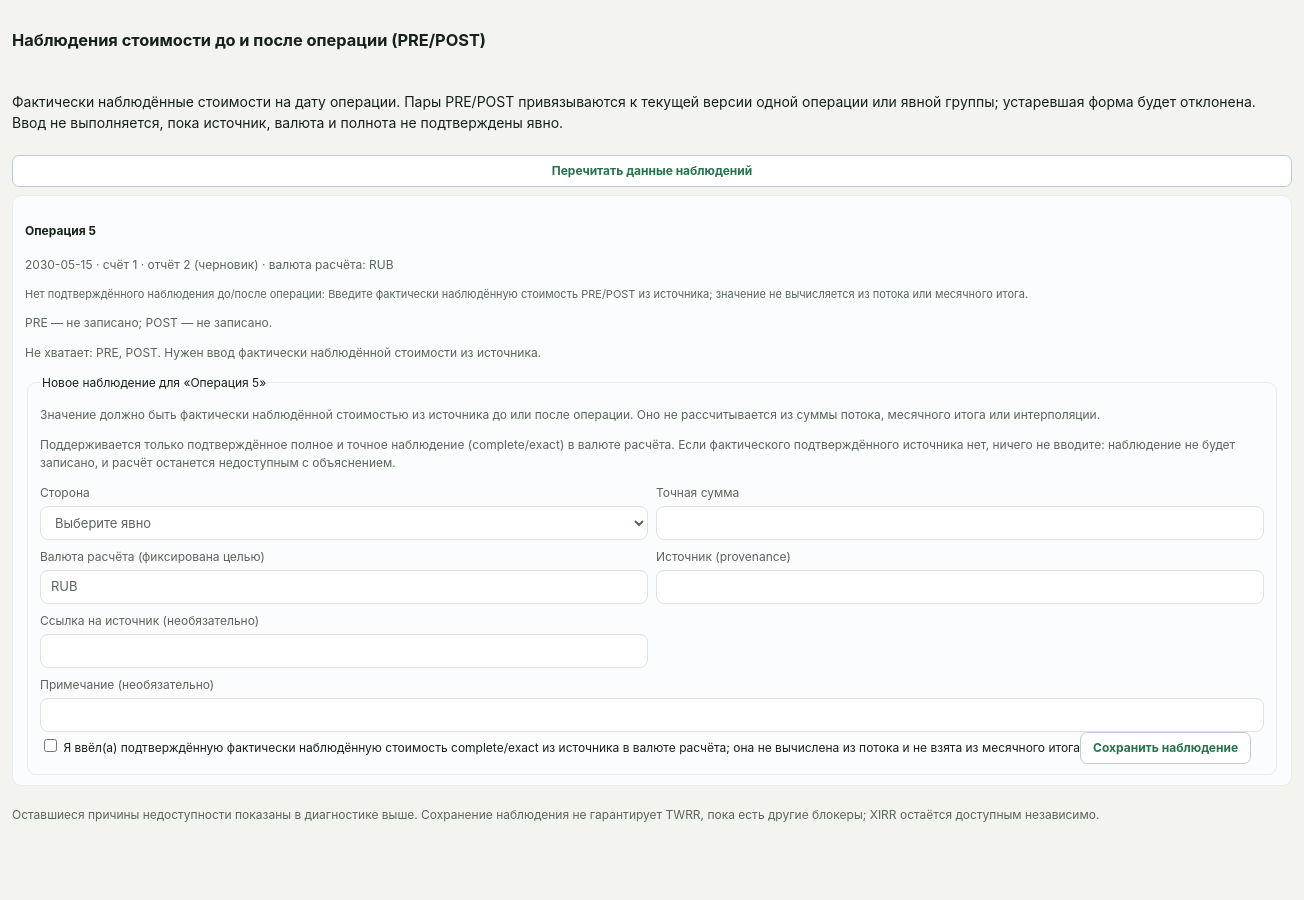
it: observed PRE/POST valuation capture › does not retry an ambiguous write and unlocks only after an explicit reread
The image size is (1304, 900).
Select "PRE" in the dropdown named "Сторона наблюдения". click: (344, 523)
box: [40,506,648,540]
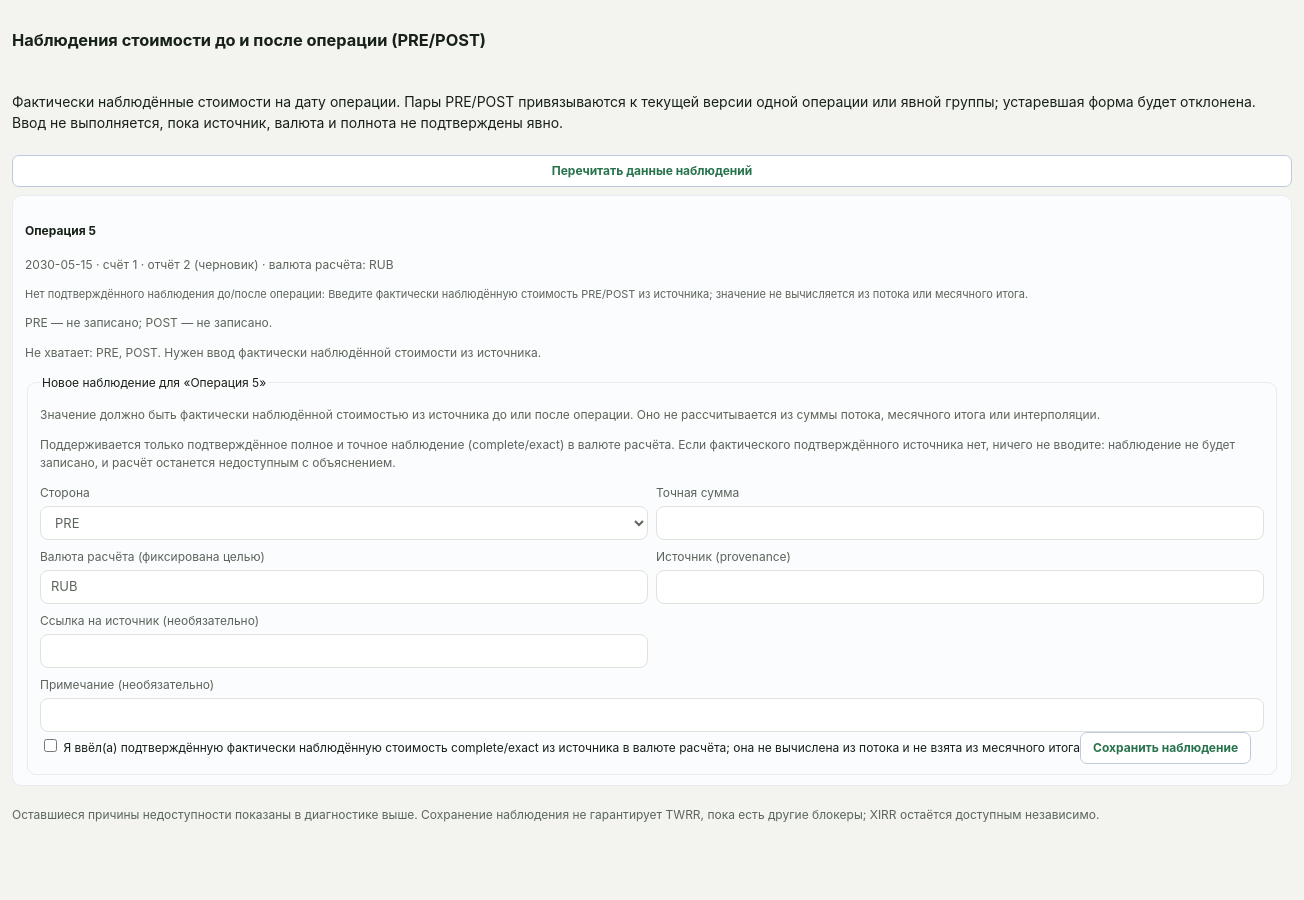
Type "1100.00" into the field named "Сумма наблюдения". click: (960, 523)
box: [656,506,1264,540]
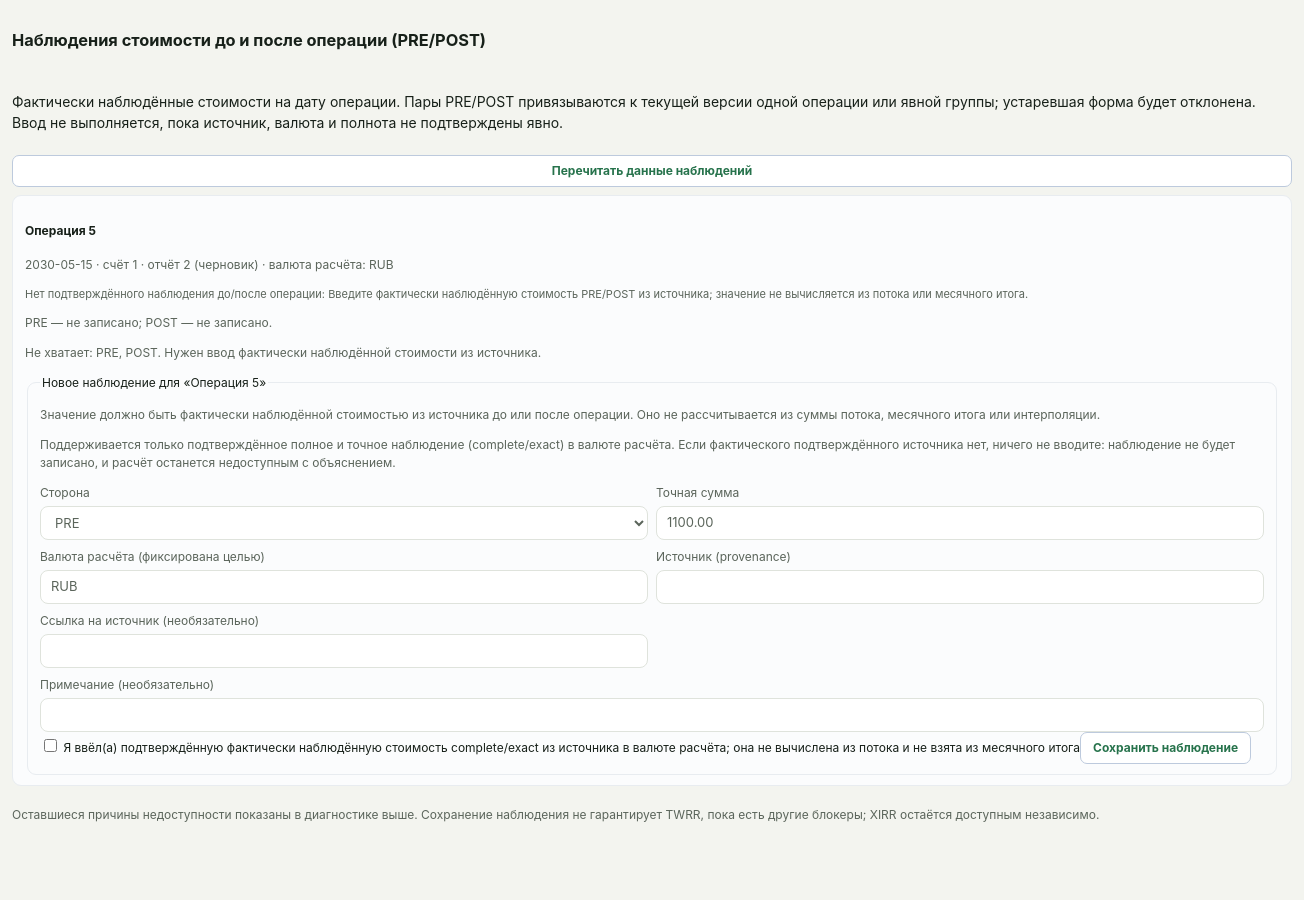
Type "owner_statement" into the field named "Источник наблюдения". click: (960, 587)
box: [656,570,1264,604]
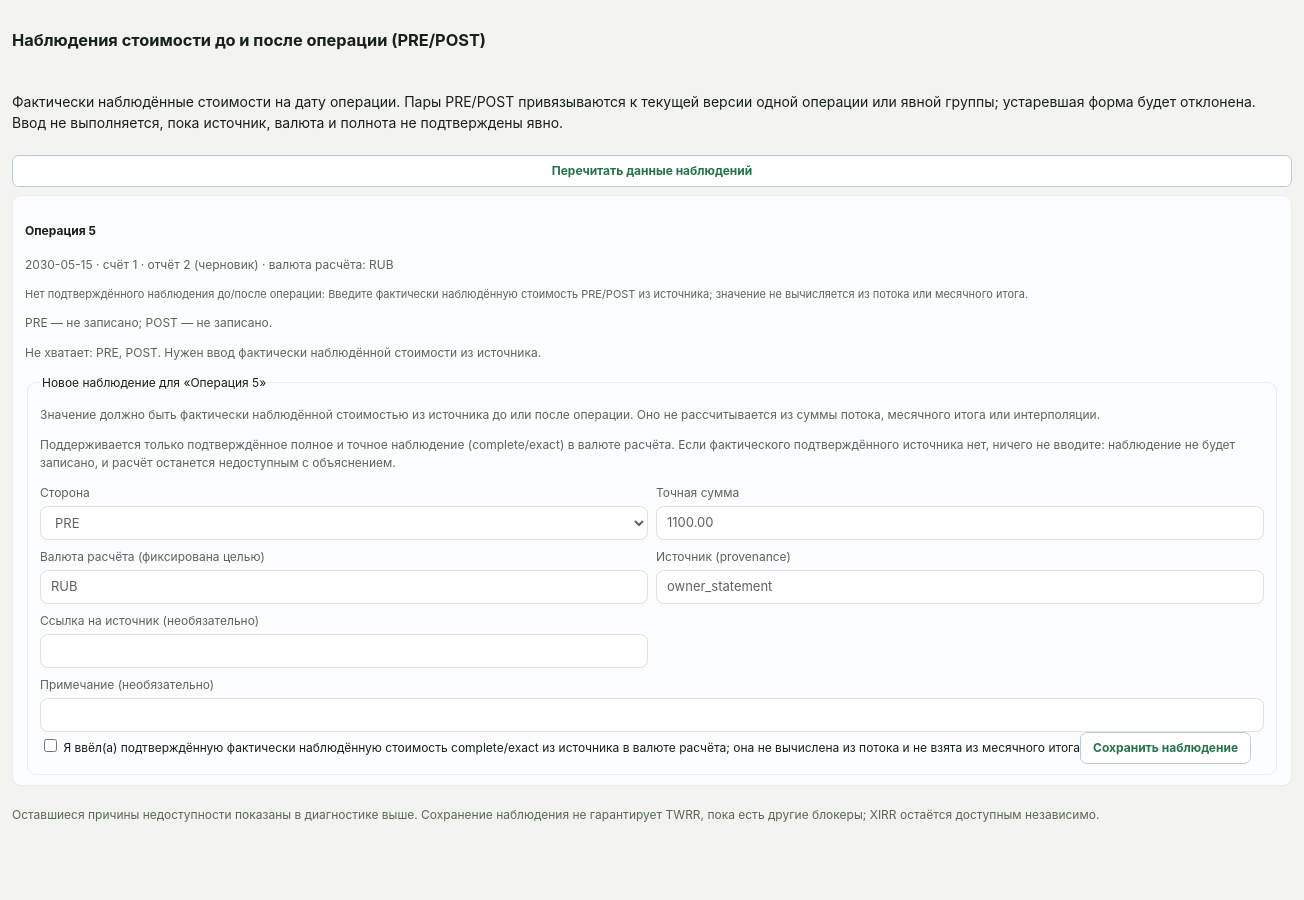
Click the checkbox labelled "Я ввёл". click: click(50, 745)
box: [44,739,57,752]
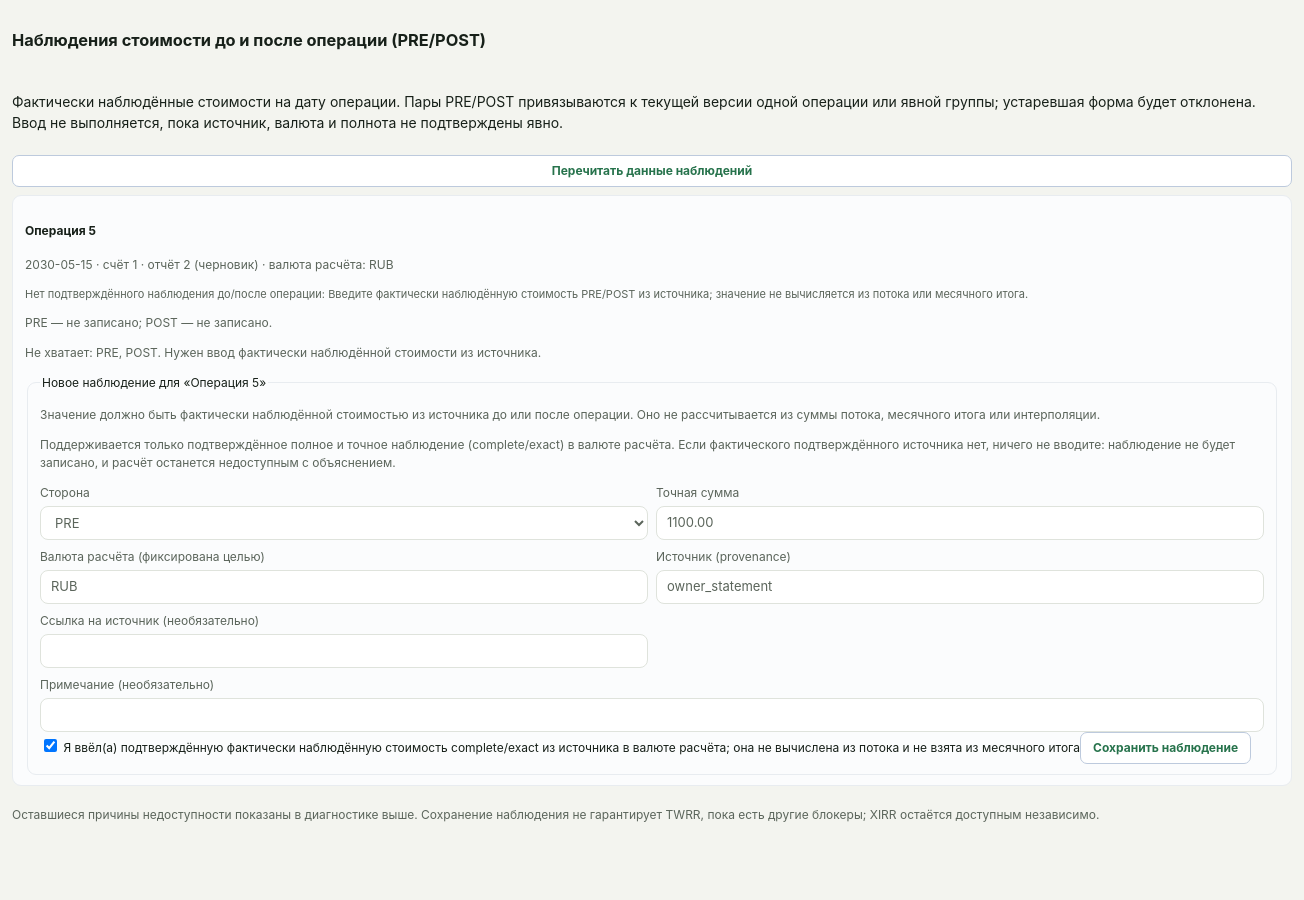
Click the button "Сохранить наблюдение". click: click(1166, 748)
box: [1080,732,1251,764]
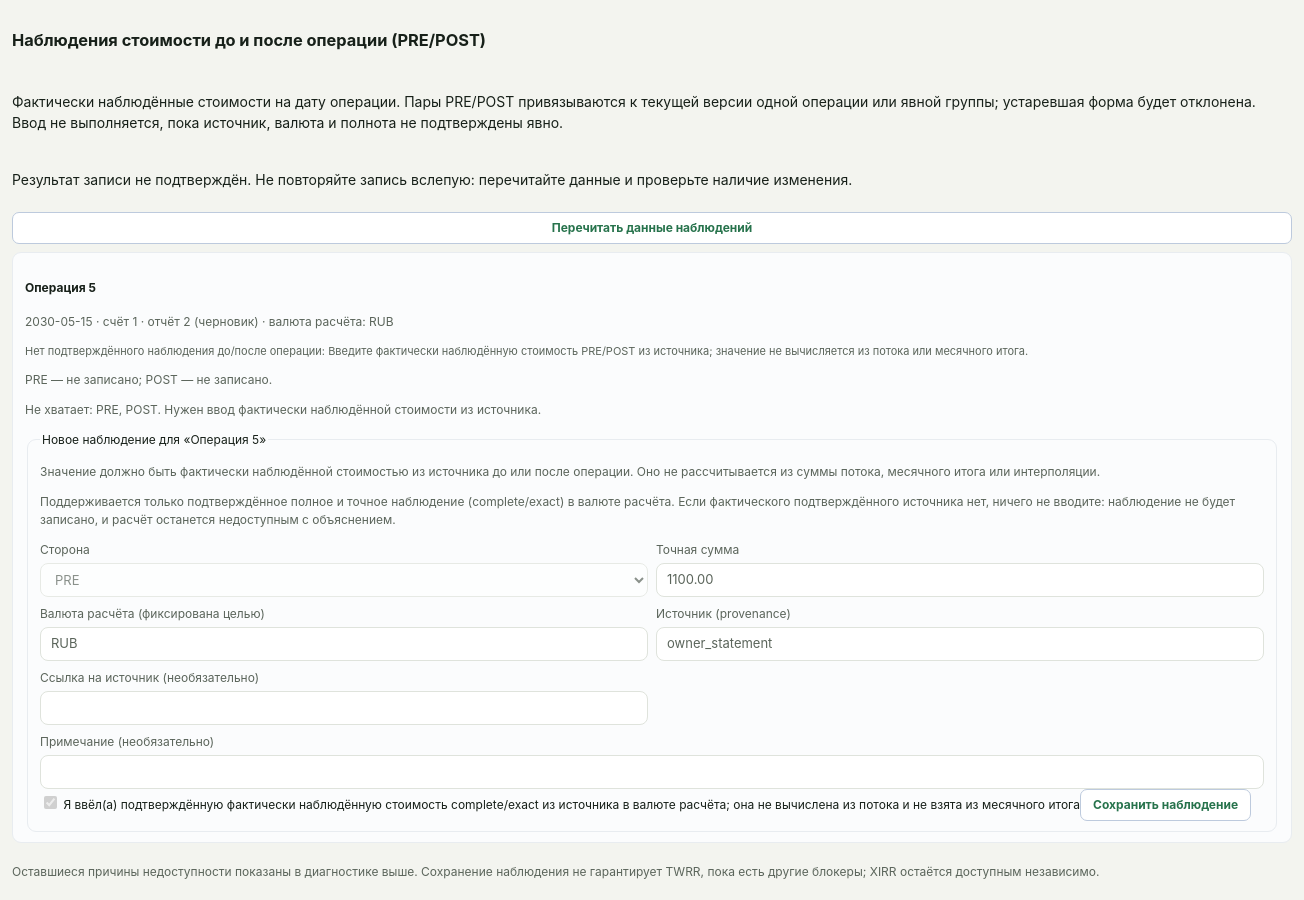
Now the text "Результат записи не подтверждён" is shown, box [12,171,852,188]
Click the button "Перечитать данные наблюдений". click: click(652, 228)
box: [12,212,1292,244]
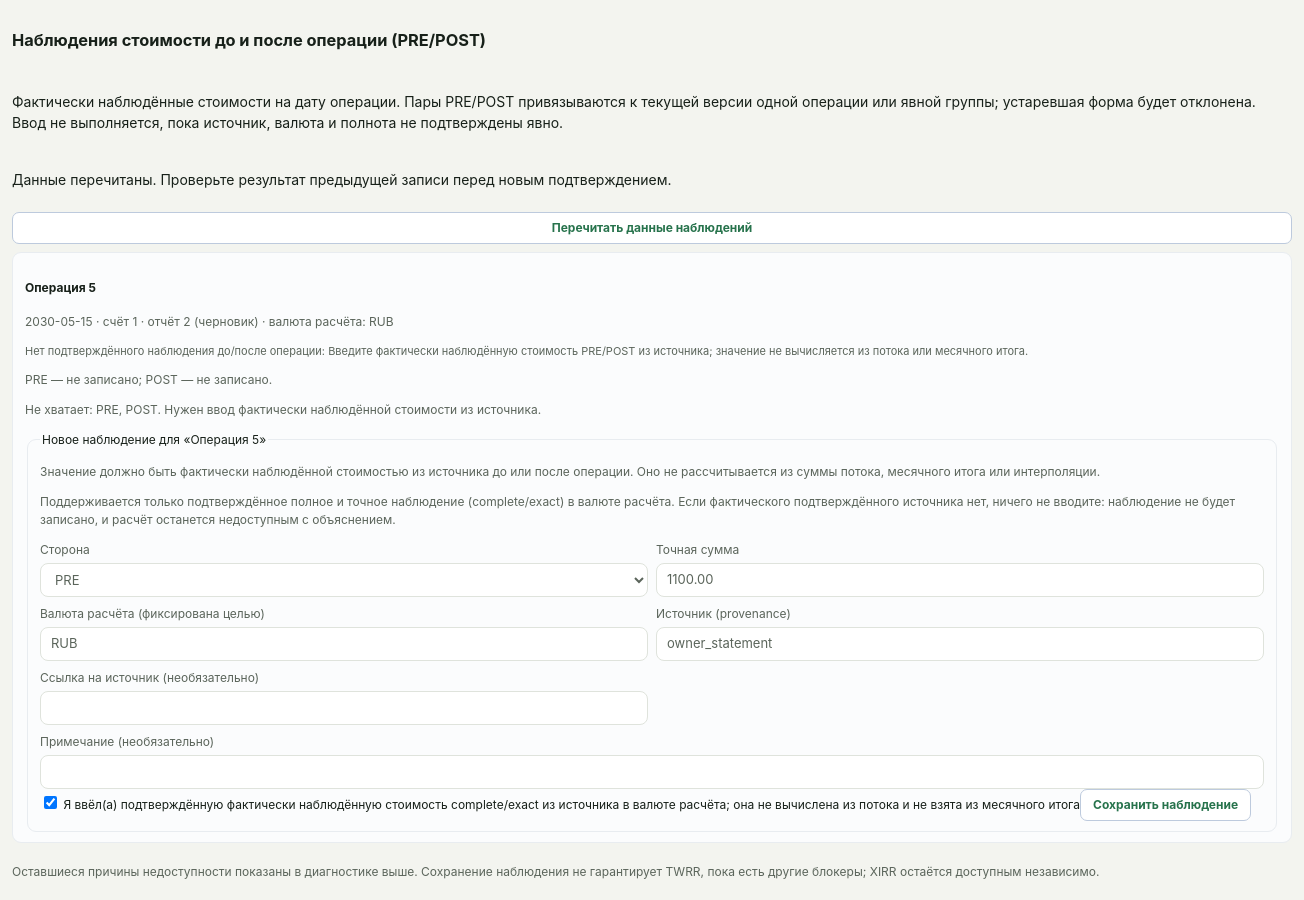
Now the button "Сохранить наблюдение" is enabled, box [1080,789,1251,821]
Now the text "Данные перечитаны" is shown, box [12,171,672,188]
